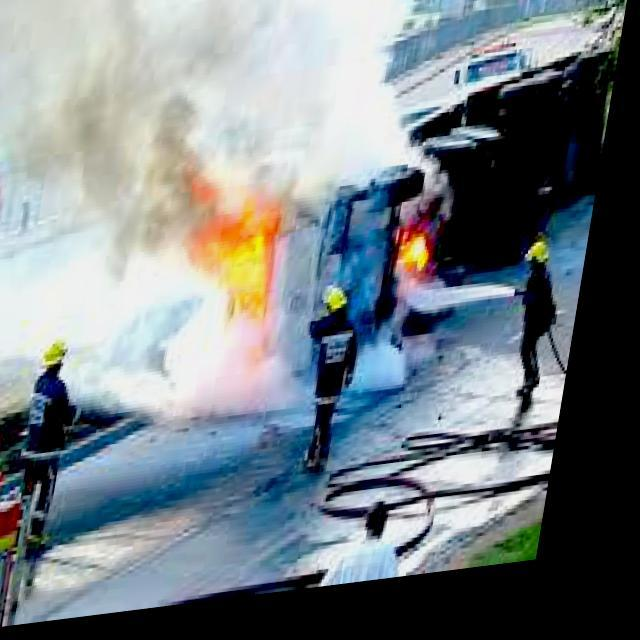Fire: (114, 143, 308, 386), (386, 220, 456, 302)
